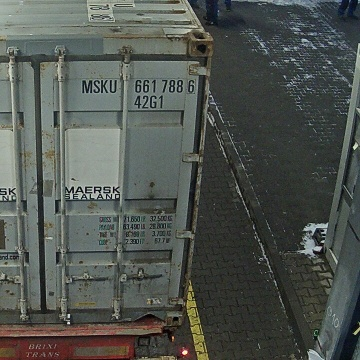serial_id: (82, 79, 194, 93)
